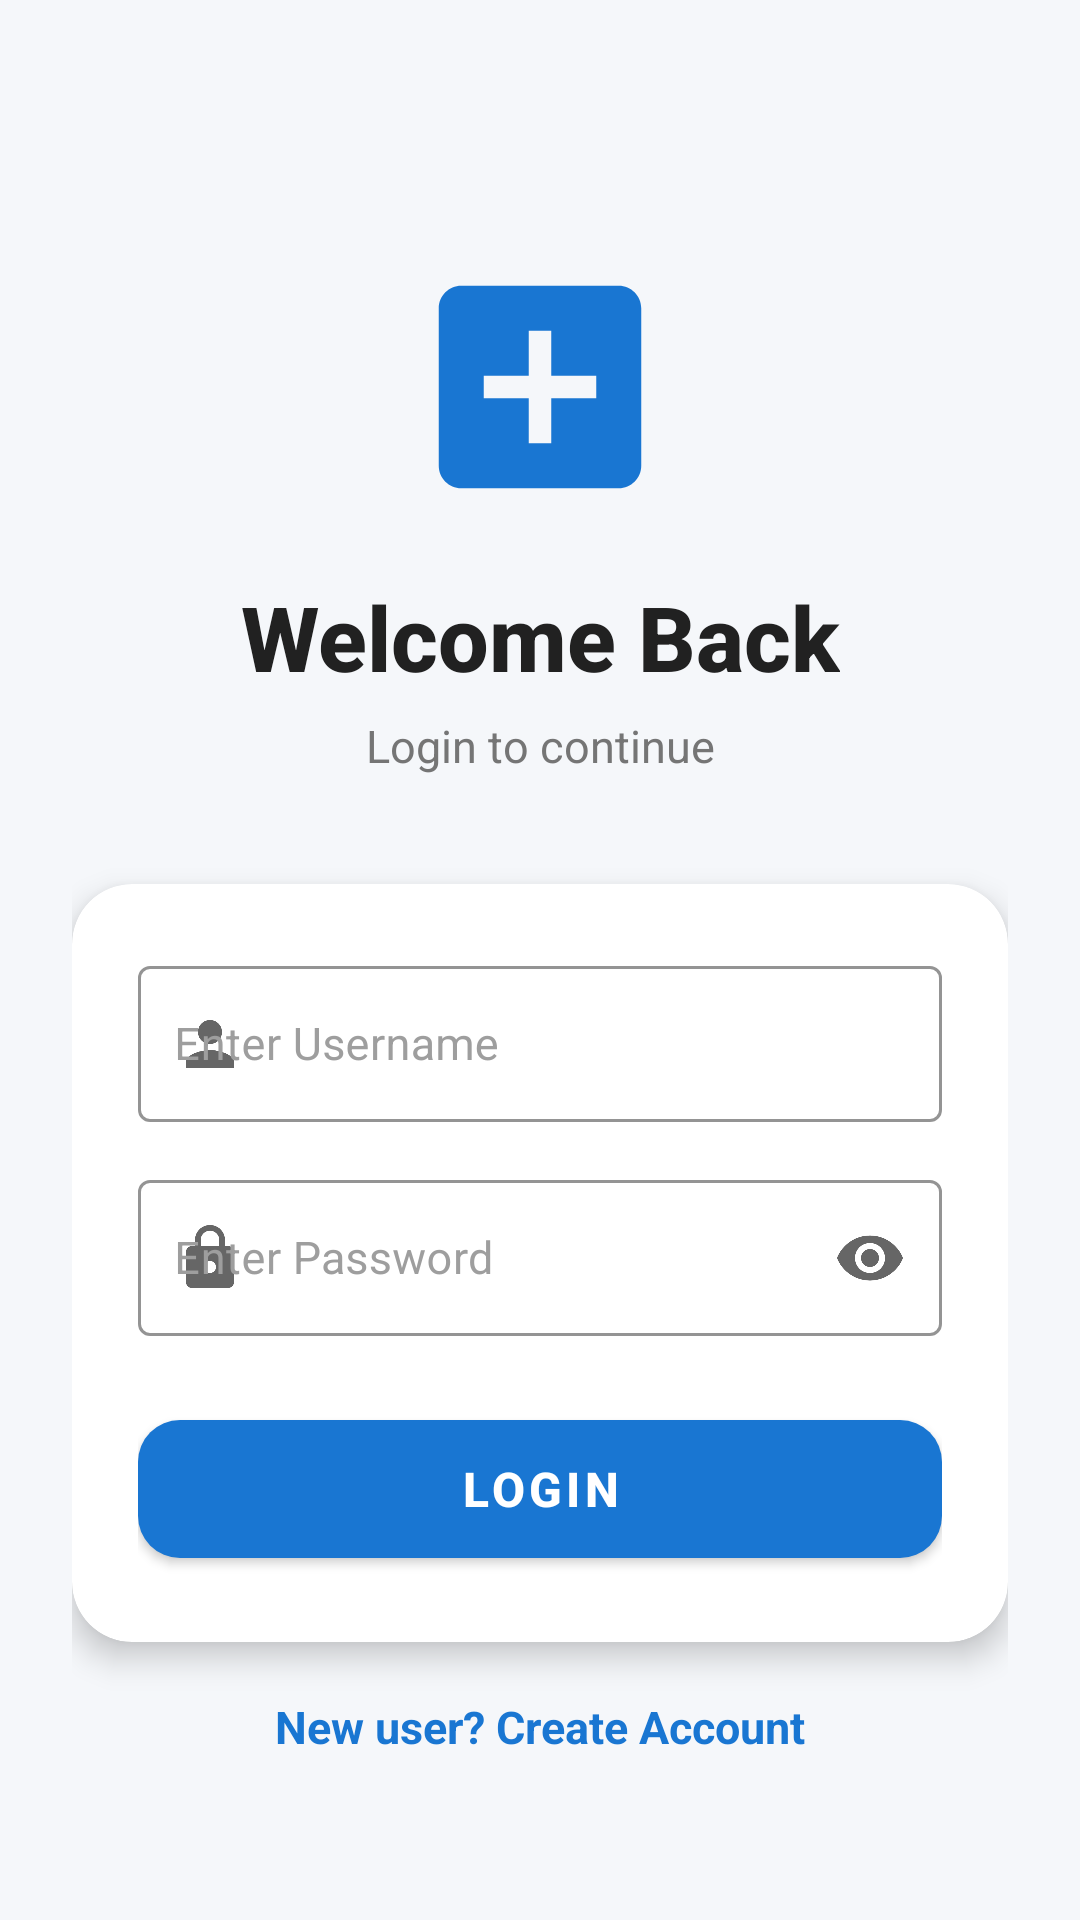

Locate icon controls on the screen. Image size 1080x1920, boxes as (x1, y1, x2, y2).
hospital: (438, 285, 642, 489)
